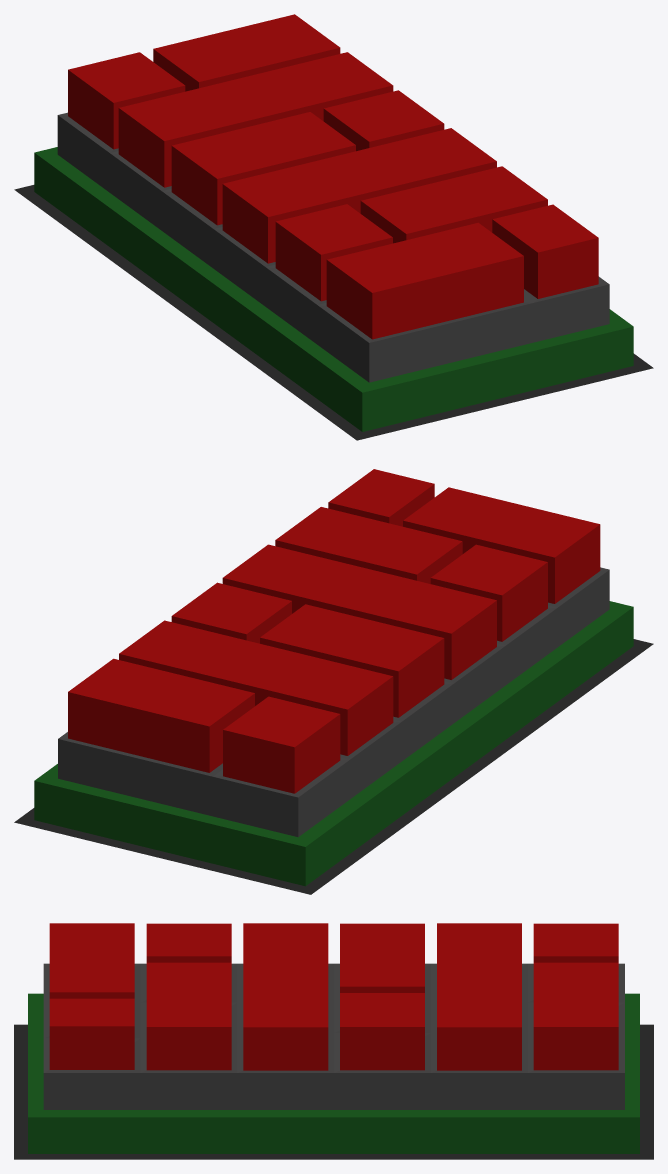
Rendered from ParkingLot-2.fbx.
The picture shows the model from 3 angles, top to bottom: view 1: azimuth 30°, elevation 25°; view 2: azimuth 150°, elevation 25°; view 3: azimuth 270°, elevation 25°; orthographic projection. The views are drawn at different scales.
Visible parts, largest first — view 1: ParkingLot-2; view 2: ParkingLot-2; view 3: ParkingLot-2.
Boxes of the visible parts, left/top/right/bottom form: ParkingLot-2: left=14, top=14, right=653, bottom=440; ParkingLot-2: left=14, top=469, right=653, bottom=894; ParkingLot-2: left=14, top=923, right=653, bottom=1159.
Bounding box in the file's own units: 6 × 2.42 × 12.
